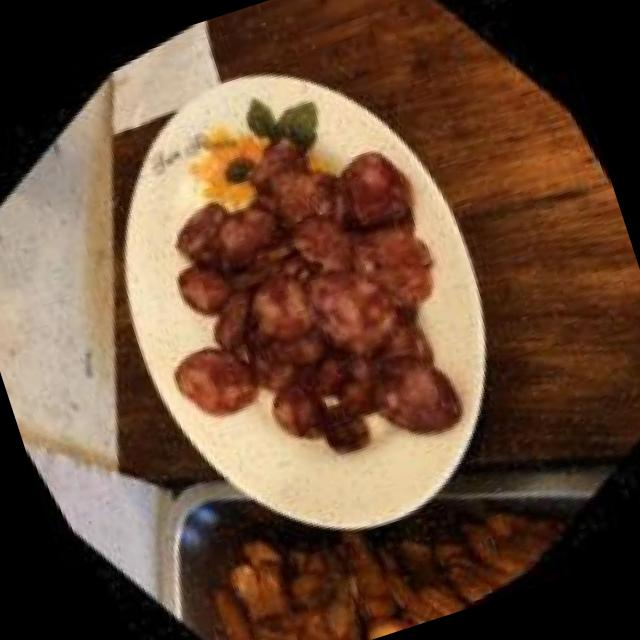chinese_sausage: (21, 1, 635, 622)
